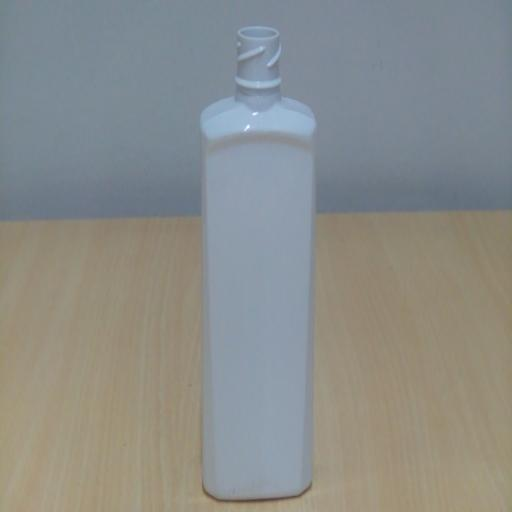Good: (188, 14, 328, 511)
